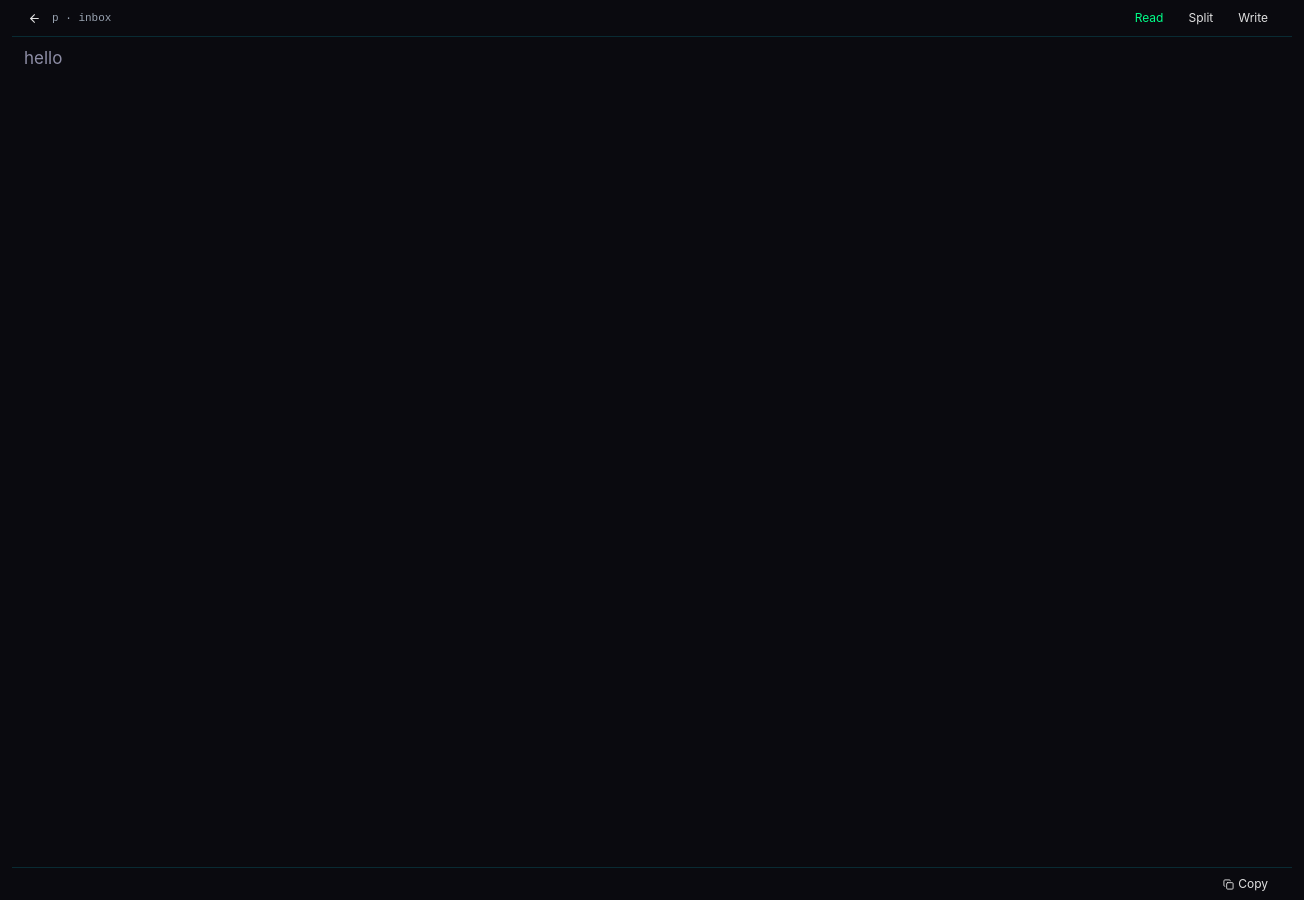
Test: NotesView markdown toolbar › shows the palette only while writing
Expected: the text "hello" is shown, [24,48,62,68]
Click the button "Write".
click(1253, 18)  # box [1226,6,1280,30]
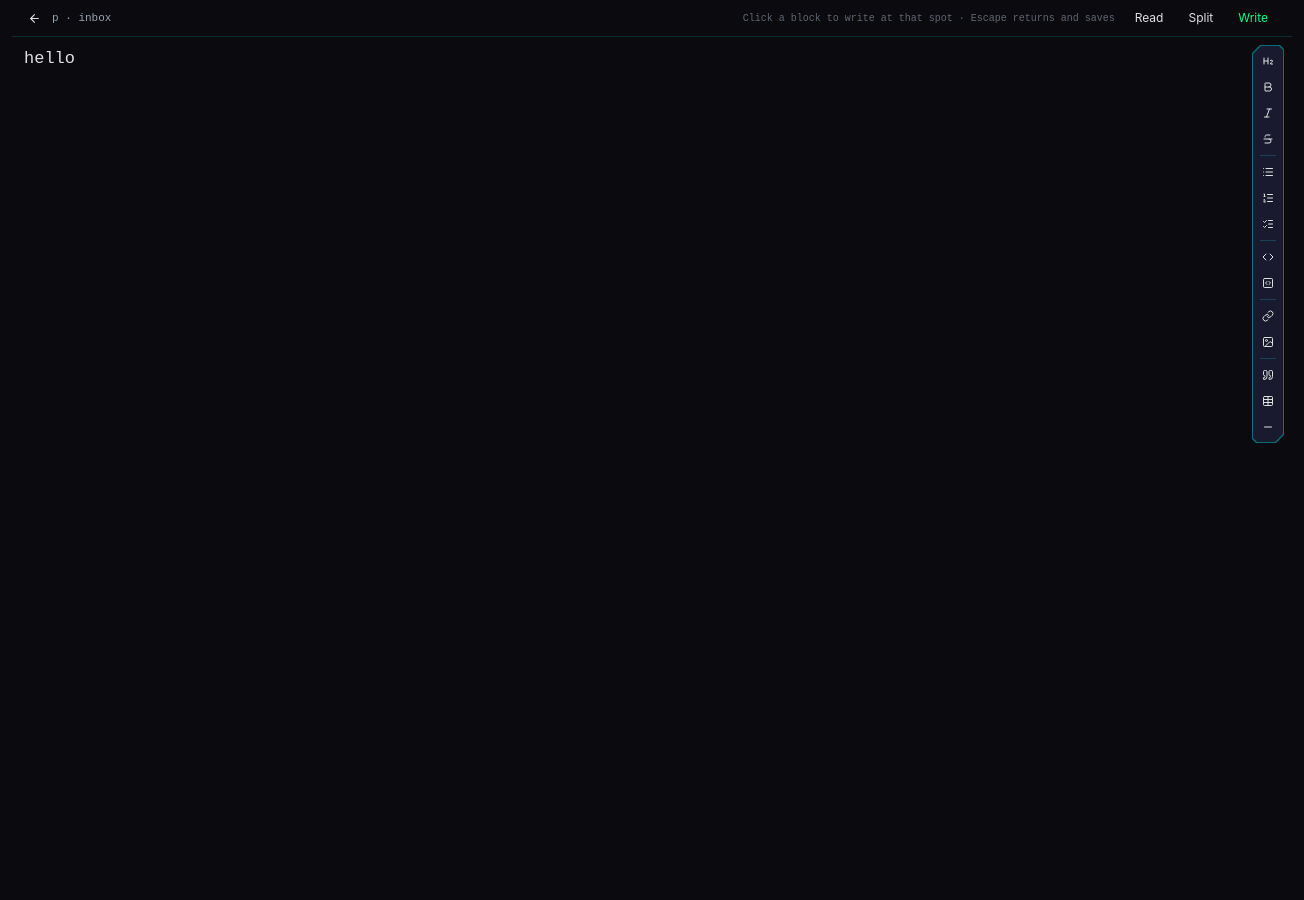
Result: the element named "Insert markdown" is shown at [1252,45,1284,443]
